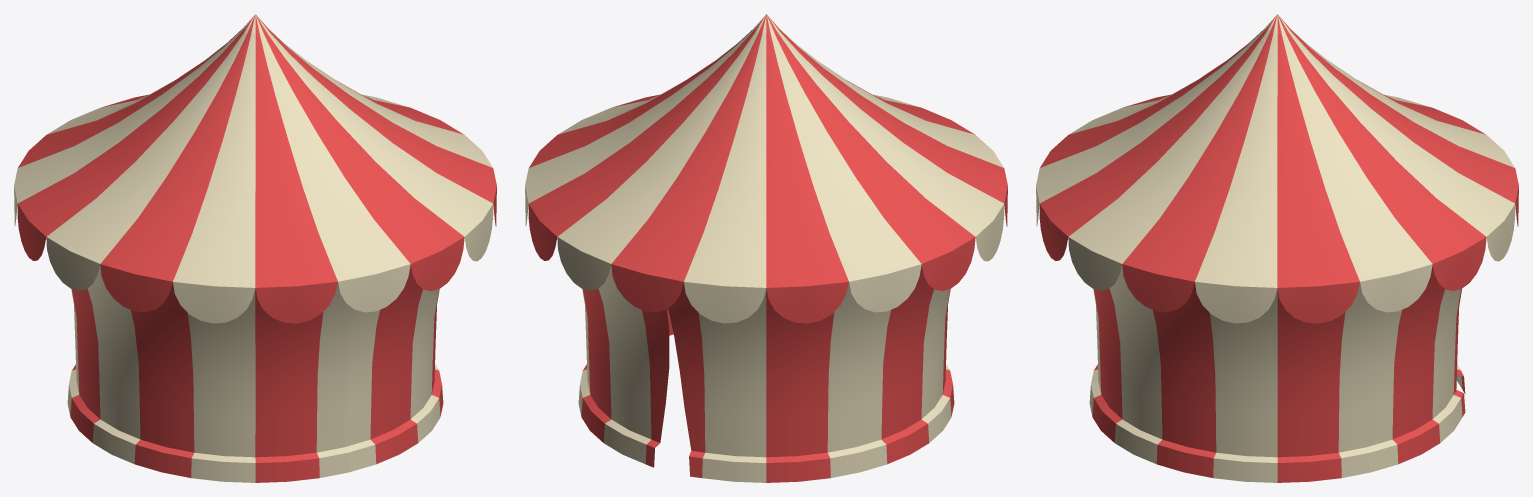
Rendered from smallCircusTent.fbx.
3 renders of one model, left to right at view 1: azimuth 30°, elevation 25°; view 2: azimuth 150°, elevation 25°; view 3: azimuth 270°, elevation 25°, orthographic.
Parts seen in each view (by area): view 1: smallCircusTent; view 2: smallCircusTent; view 3: smallCircusTent.
Part boxes in pixels (bbox=[...]): smallCircusTent: bbox=[14, 14, 496, 482]; smallCircusTent: bbox=[525, 14, 1007, 482]; smallCircusTent: bbox=[1036, 14, 1518, 482].
Bounding box in the file's own units: 0.6199 × 0.5505 × 0.6185.
